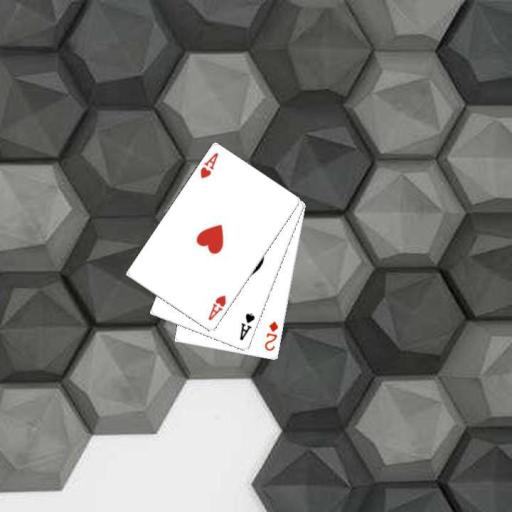2D: (262, 319, 280, 353)
AH: (197, 149, 220, 180), (205, 292, 228, 322)
AS: (237, 310, 257, 342)
